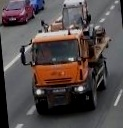car: (1, 0, 37, 27), (27, 0, 46, 14)
